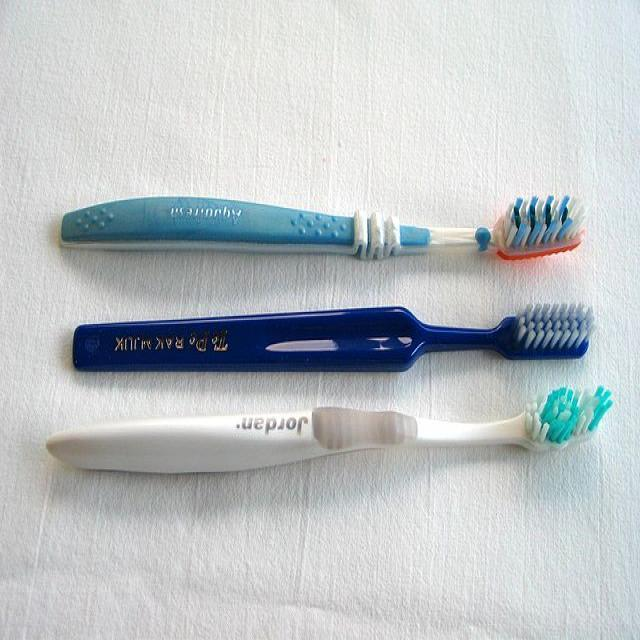toothbrush: (48, 382, 612, 473), (62, 191, 582, 267), (75, 303, 593, 373)
